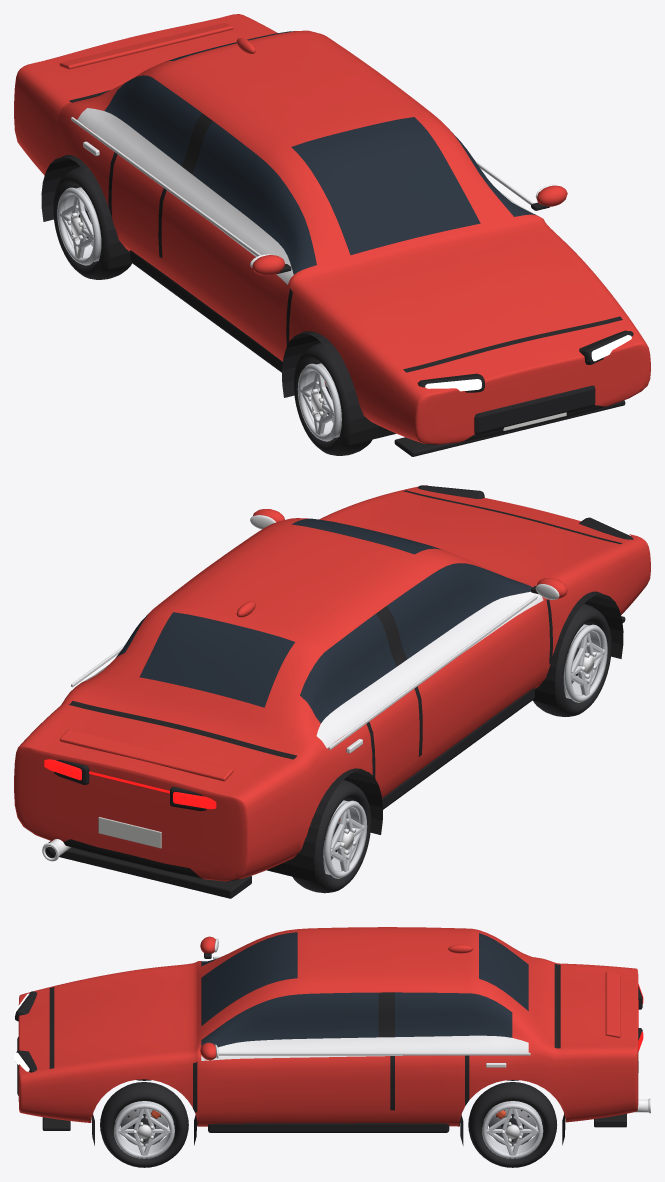
The model's file is regent_mid.glb.
3 views of the same model, one above another, from view 1: azimuth 30°, elevation 25°; view 2: azimuth 150°, elevation 25°; view 3: azimuth 270°, elevation 25° (orthographic). The views are drawn at different scales.
Parts seen in each view (by area): view 1: body, wheel_fr, wheel_rr; view 2: body, wheel_rr, wheel_fr; view 3: body, wheel_fl, wheel_rl.
Part boxes in pixels (x1,y1,x2,y2): body: [14, 14, 650, 456]; wheel_fr: [293, 342, 371, 455]; wheel_rr: [53, 166, 131, 279]; body: [14, 485, 650, 898]; wheel_rr: [292, 780, 371, 893]; wheel_fr: [533, 603, 611, 716]; body: [14, 927, 650, 1145]; wheel_fl: [100, 1082, 188, 1167]; wheel_rl: [468, 1082, 556, 1167].
Size of the model in its own units: 2.18 by 1.54 by 5.02.
